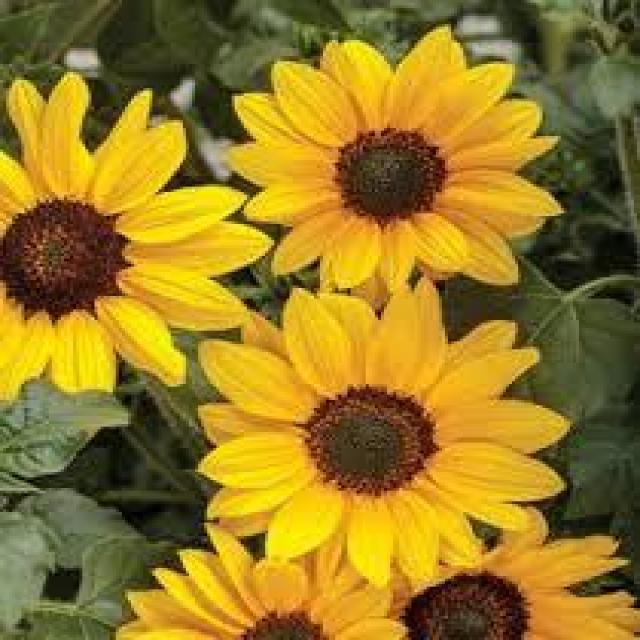organic waste: (171, 282, 570, 570), (230, 23, 575, 292), (0, 79, 238, 404)
